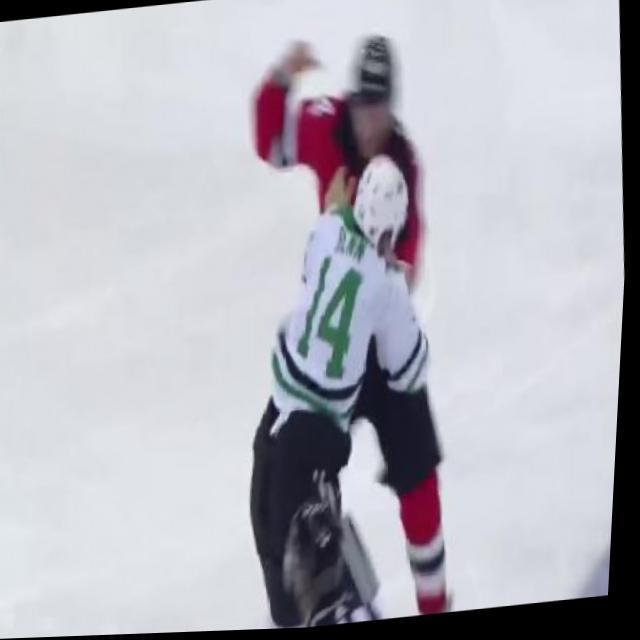fight: (196, 9, 513, 634)
